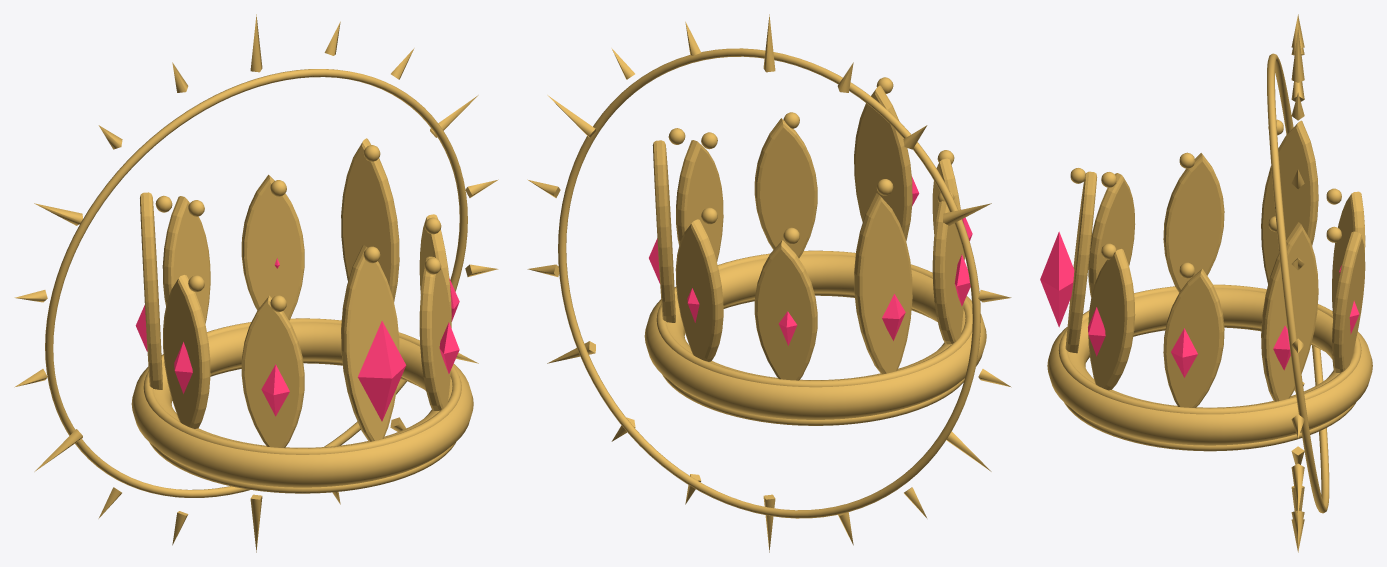
The picture shows the model from 3 angles, left to right: view 1: azimuth 30°, elevation 25°; view 2: azimuth 150°, elevation 25°; view 3: azimuth 270°, elevation 25°; orthographic projection. The views are drawn at different scales.
Parts seen in each view (by area): view 1: ASTRAVA S; view 2: ASTRAVA S; view 3: ASTRAVA S.
Part boxes in pixels (<box>): ASTRAVA S: <box>14,14,498,552</box>; ASTRAVA S: <box>527,14,1011,552</box>; ASTRAVA S: <box>1040,14,1372,552</box>.
Bounding box in the file's own units: 3.63 × 3.86 × 2.27.
